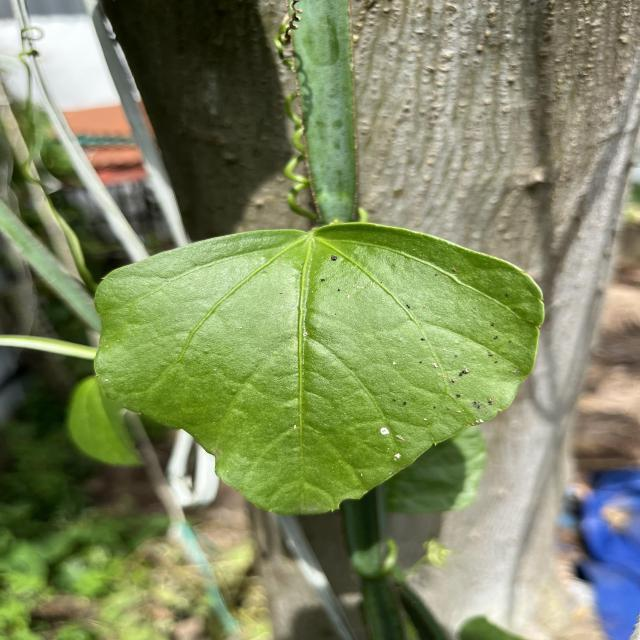Cissus quadrangularis: (90, 218, 550, 522)
